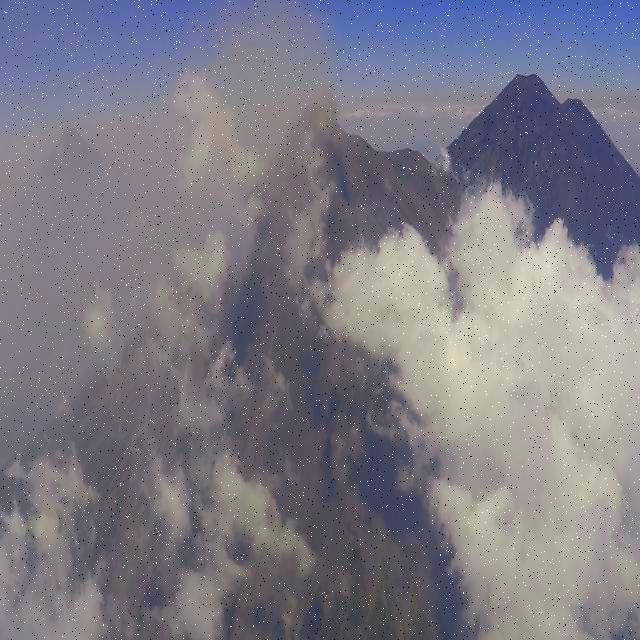Summit: (274, 96, 372, 170)
